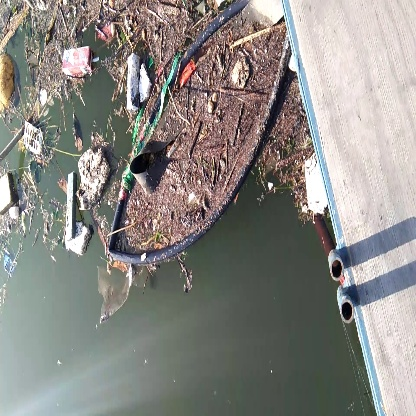milk-box: (56, 42, 100, 83)
plastic-garbage: (73, 147, 113, 209)
